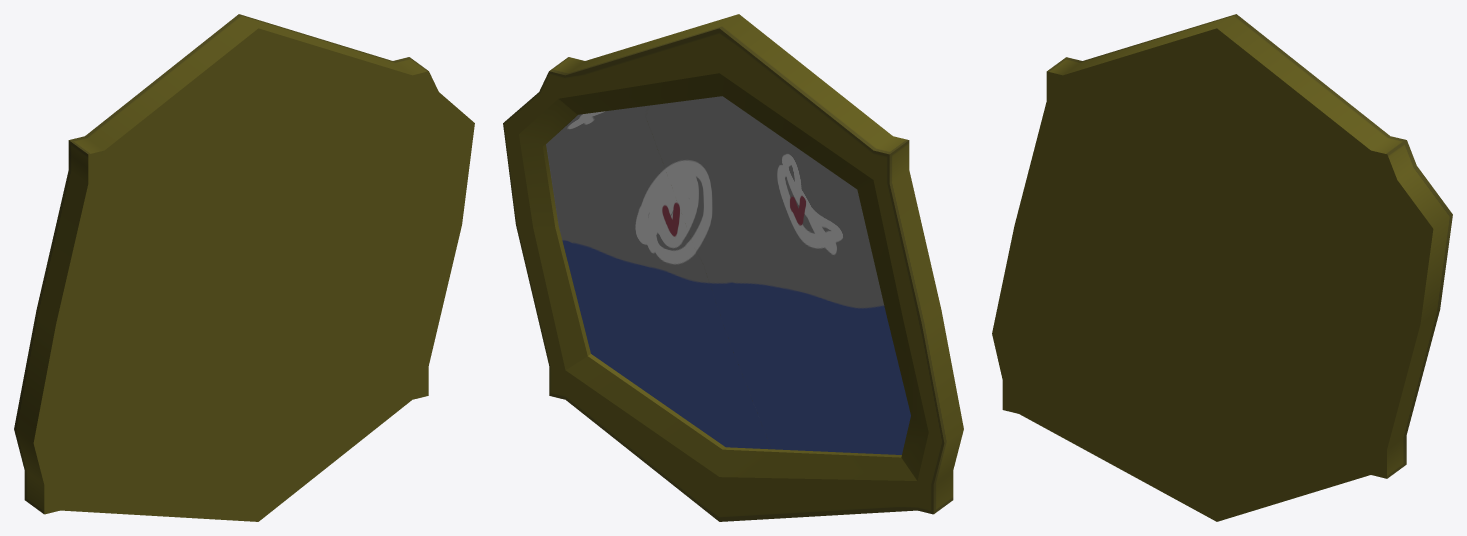
File: BgMD_painting_frame07 (2).fbx
The picture shows the model from 3 angles, left to right: view 1: azimuth 30°, elevation 25°; view 2: azimuth 150°, elevation 25°; view 3: azimuth 330°, elevation 25°; orthographic projection.
Visible parts, largest first — view 1: Bg_painting_frame07; view 2: Bg_painting_frame07; view 3: Bg_painting_frame07.
Boxes of the visible parts, left/top/right/bottom form: Bg_painting_frame07: left=14, top=14, right=474, bottom=521; Bg_painting_frame07: left=503, top=14, right=963, bottom=521; Bg_painting_frame07: left=992, top=14, right=1452, bottom=521.
Bounding box in the file's own units: 199 × 213 × 15.31.
Materials: 1 (1 with a texture image).
